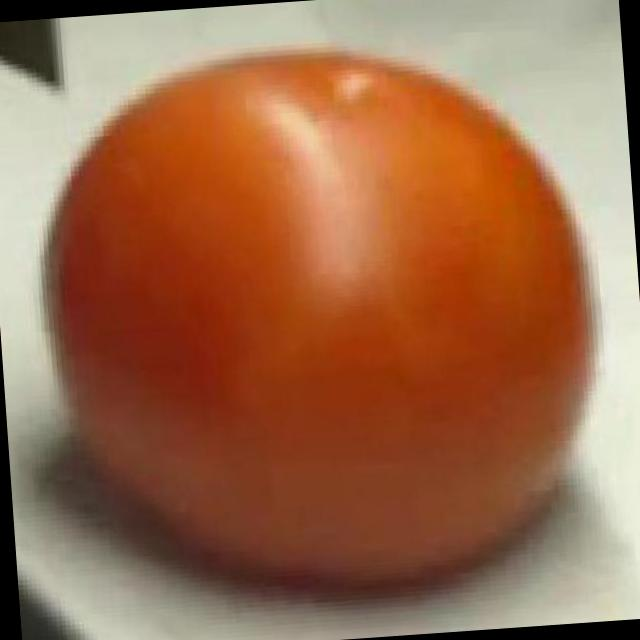tomato: (28, 31, 618, 618)
